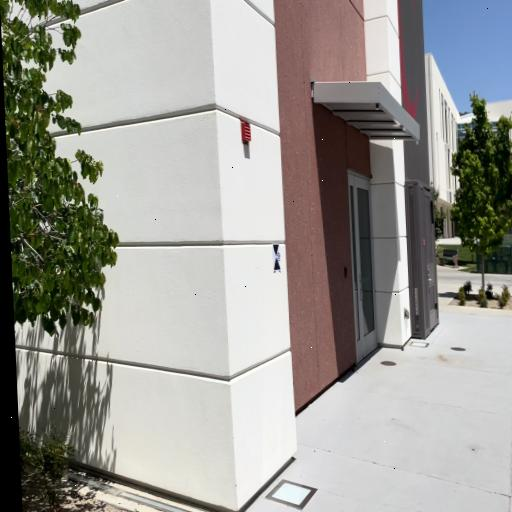target9: (273, 244, 281, 271)
